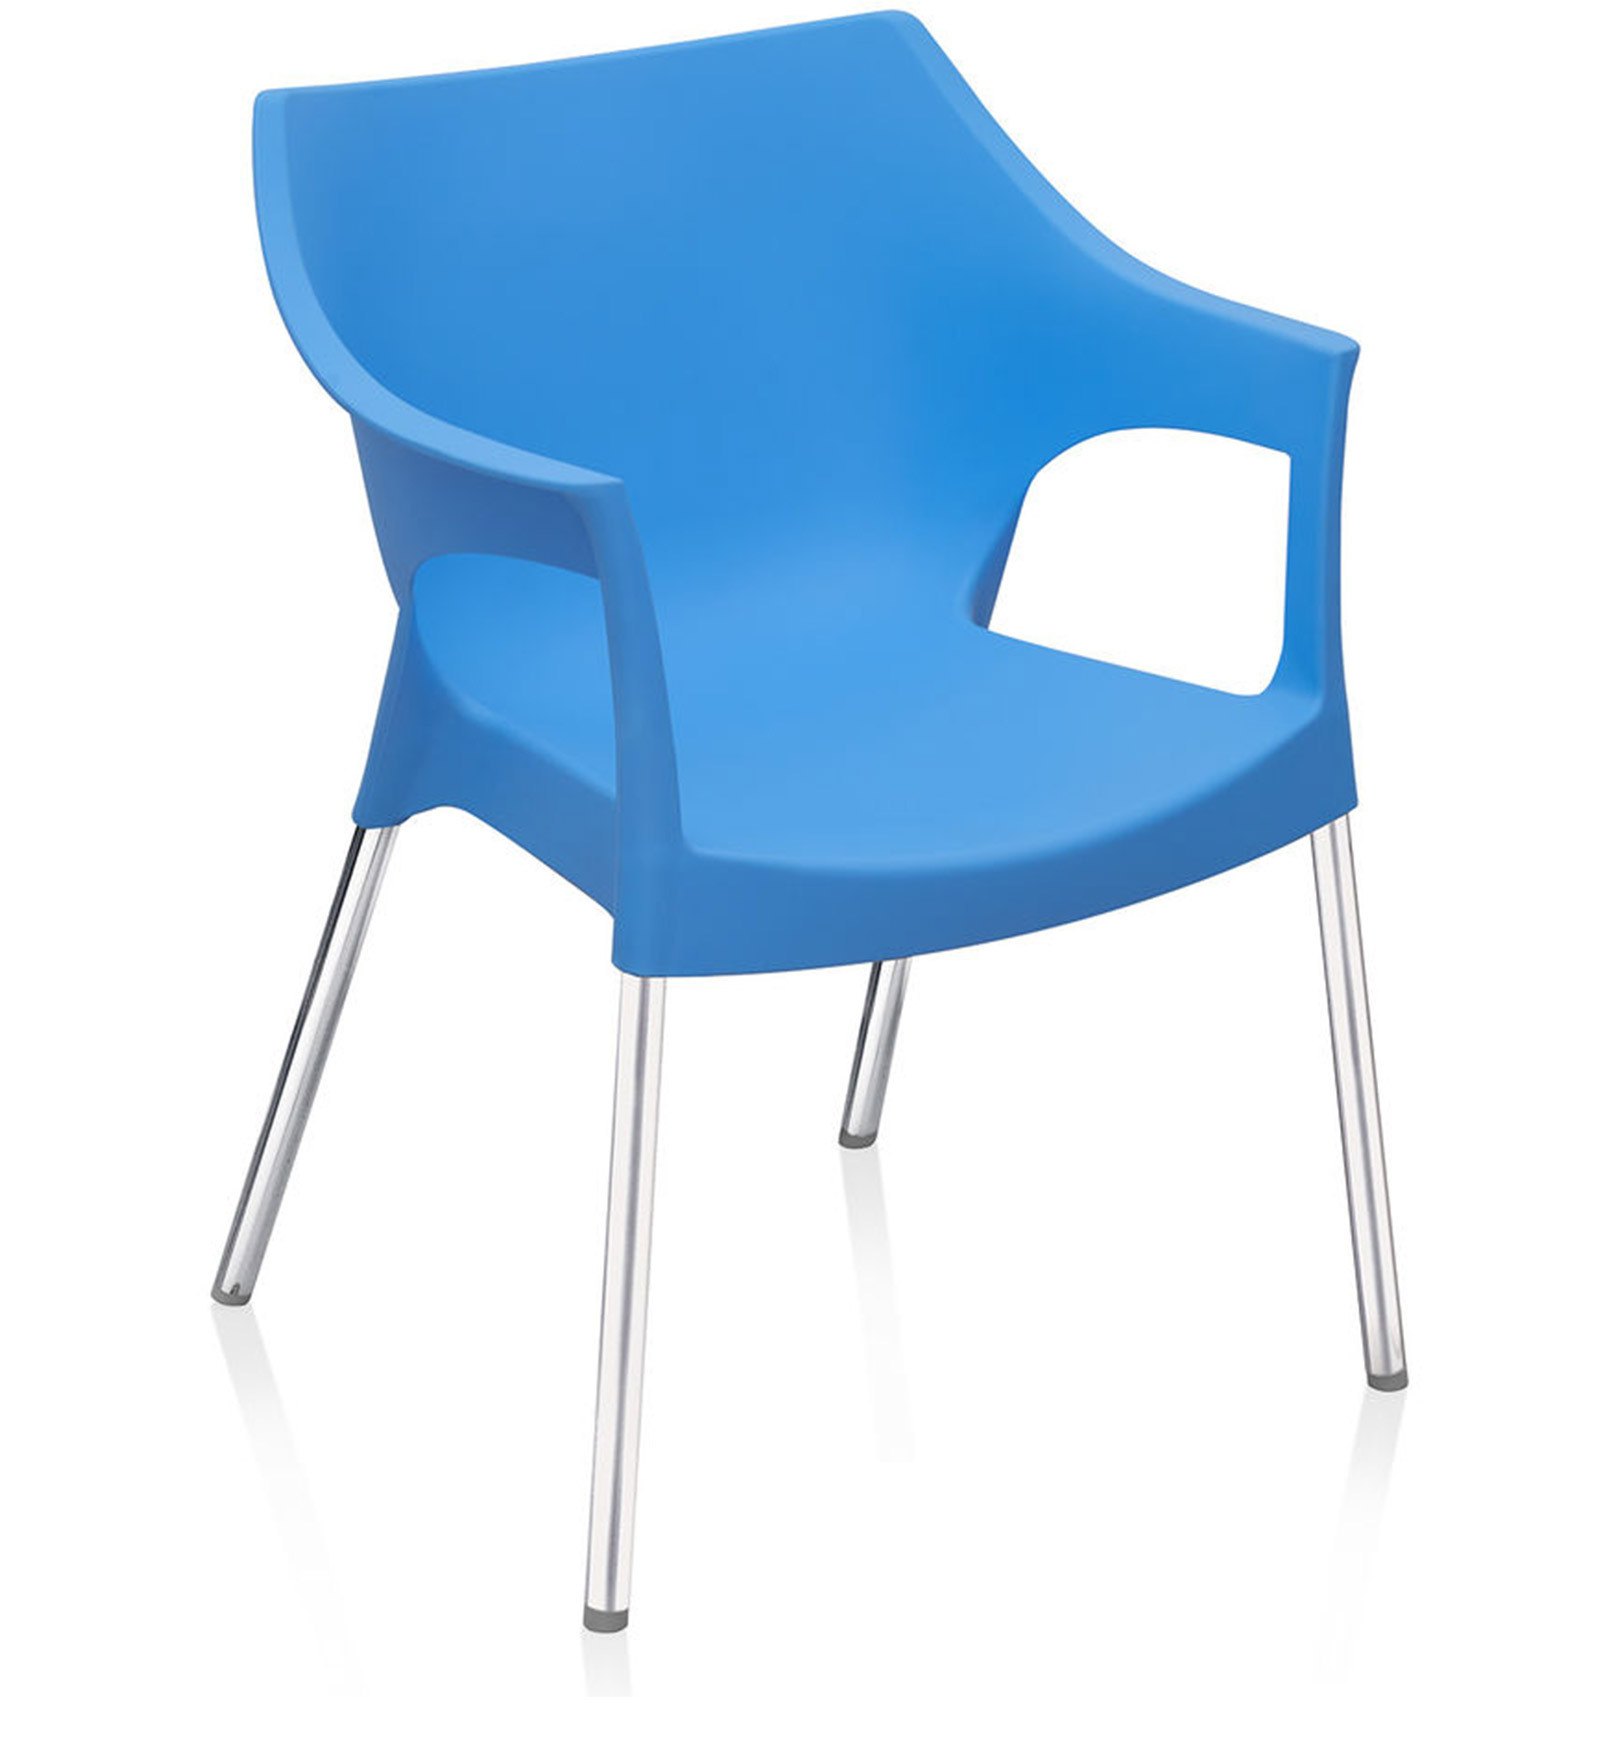Novella Series - 10 Set of 2 Chairs in Blue Colour by Nilkamal: (208, 9, 1411, 1627)
